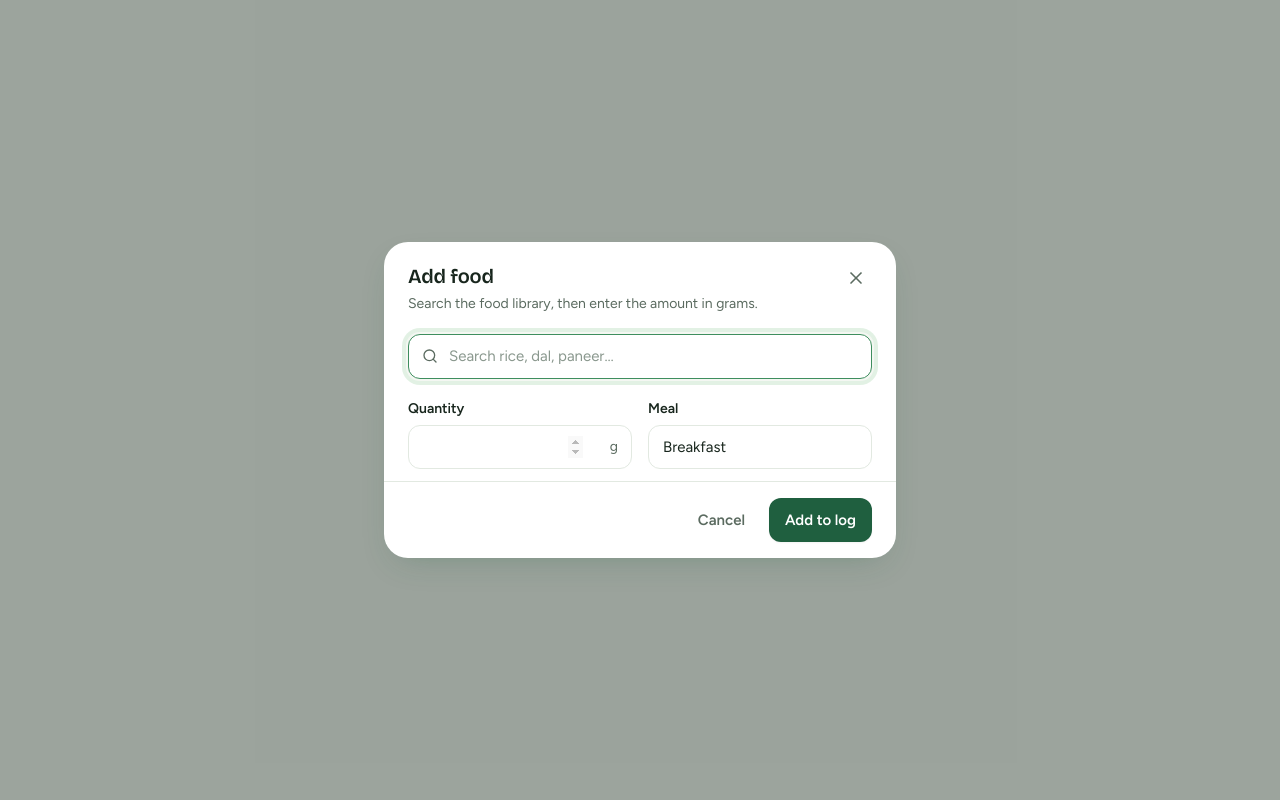
Scenario: Food search and meal logging › tells the user when nothing matches
This screenshot has width=1280, height=800.
Step 1. Type "pizza" into the dropdown named "Search foods" → (640, 356), box [408,334,872,378]
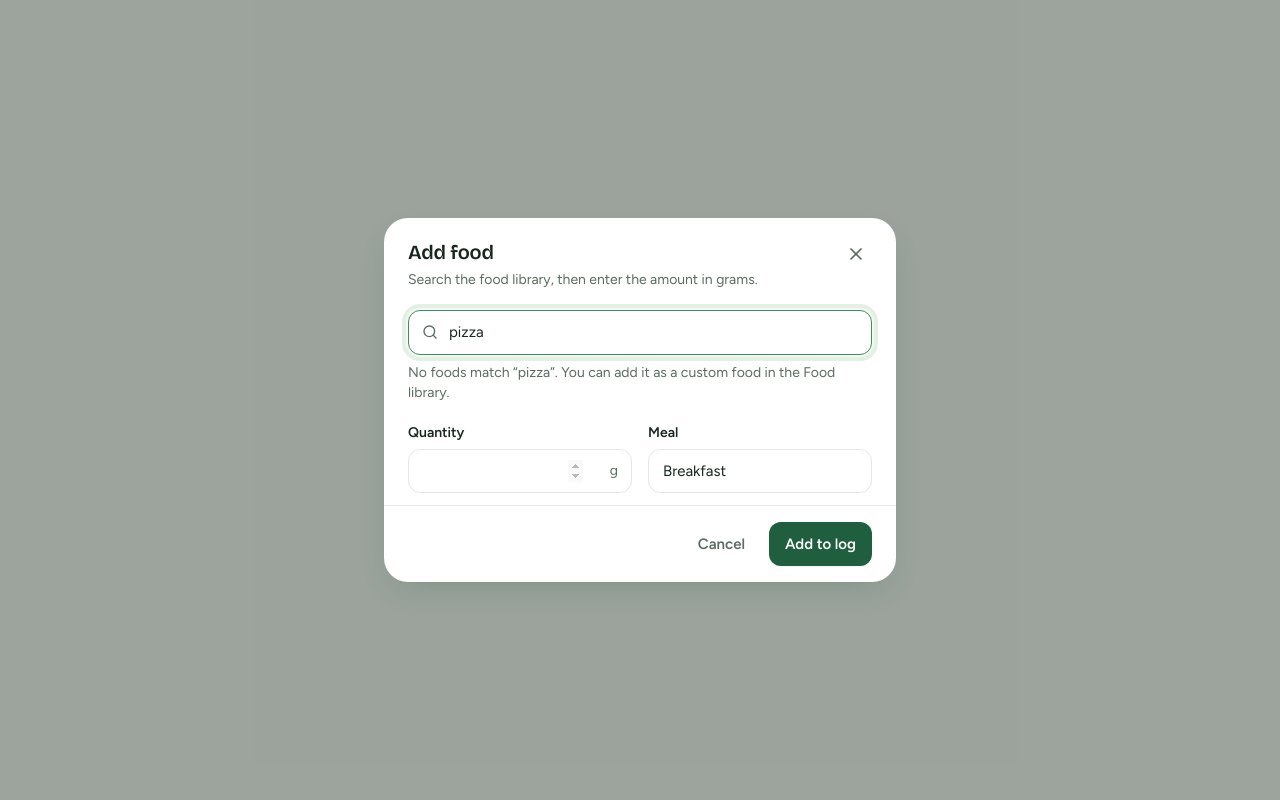
Result: the text "No foods match" is shown at [408,364,518,380]
